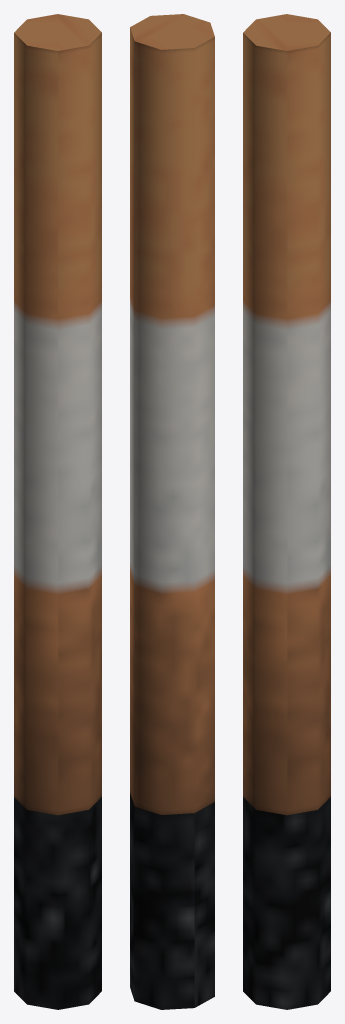
Rendered from SM_EC_Traffic_Pillar_0.fbx.
The picture shows the model from 3 angles, left to right: view 1: azimuth 90°, elevation 25°; view 2: azimuth 210°, elevation 25°; view 3: azimuth 270°, elevation 25°; orthographic projection.
Visible parts, largest first — view 1: SM_EC_Traffic_Pillar_0; view 2: SM_EC_Traffic_Pillar_0; view 3: SM_EC_Traffic_Pillar_0.
Part boxes in pixels (<box>): SM_EC_Traffic_Pillar_0: <box>14,14,101,1009</box>; SM_EC_Traffic_Pillar_0: <box>130,14,214,1009</box>; SM_EC_Traffic_Pillar_0: <box>243,14,330,1009</box>.
Size of the model in its own units: 0.1035 by 0.1035 by 1.25.
